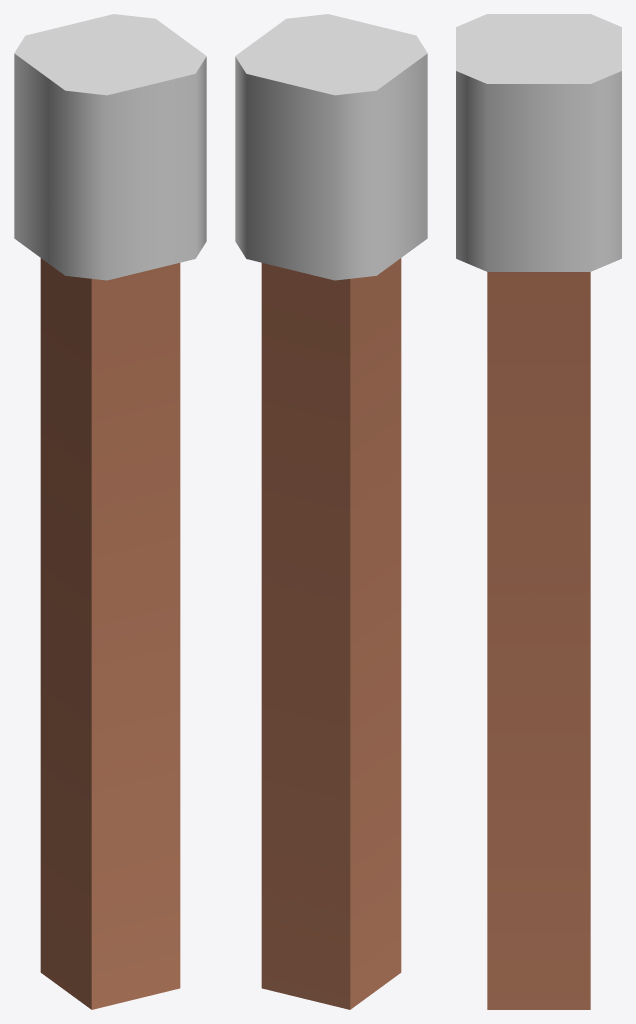
File: torch$col.glb
3 renders of one model, left to right at view 1: azimuth 30°, elevation 25°; view 2: azimuth 150°, elevation 25°; view 3: azimuth 270°, elevation 25°, orthographic.
Parts seen in each view (by area): view 1: body, head; view 2: body, head; view 3: body, head.
Part boxes in pixels (x1,y1,x2,y2): body: (40, 258, 180, 1009); head: (14, 14, 206, 280); body: (261, 258, 401, 1009); head: (235, 14, 427, 280); body: (487, 272, 590, 1009); head: (456, 14, 621, 271).
Size of the model in its own units: 0.16 by 1 by 0.16.
2 materials, 1 textured.
